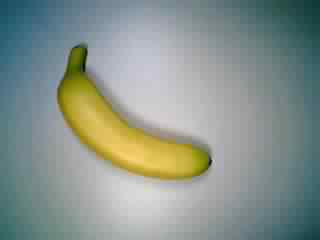banana: (54, 43, 219, 186)
